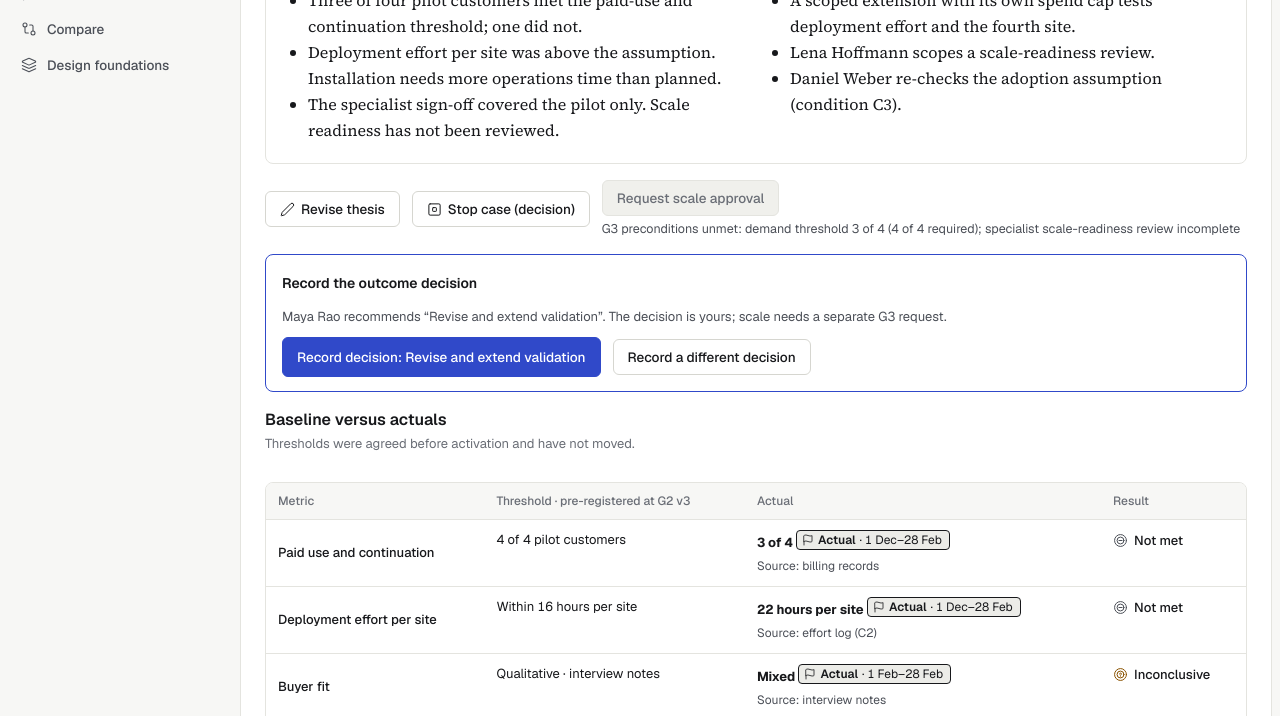
it: S12 Outcomes › the sponsor records the decision on the recommendation (step 27)
(page scrolled)
Click the button "Record decision: Revise and extend validation".
click(441, 357)  # box left=282, top=337, right=600, bottom=377
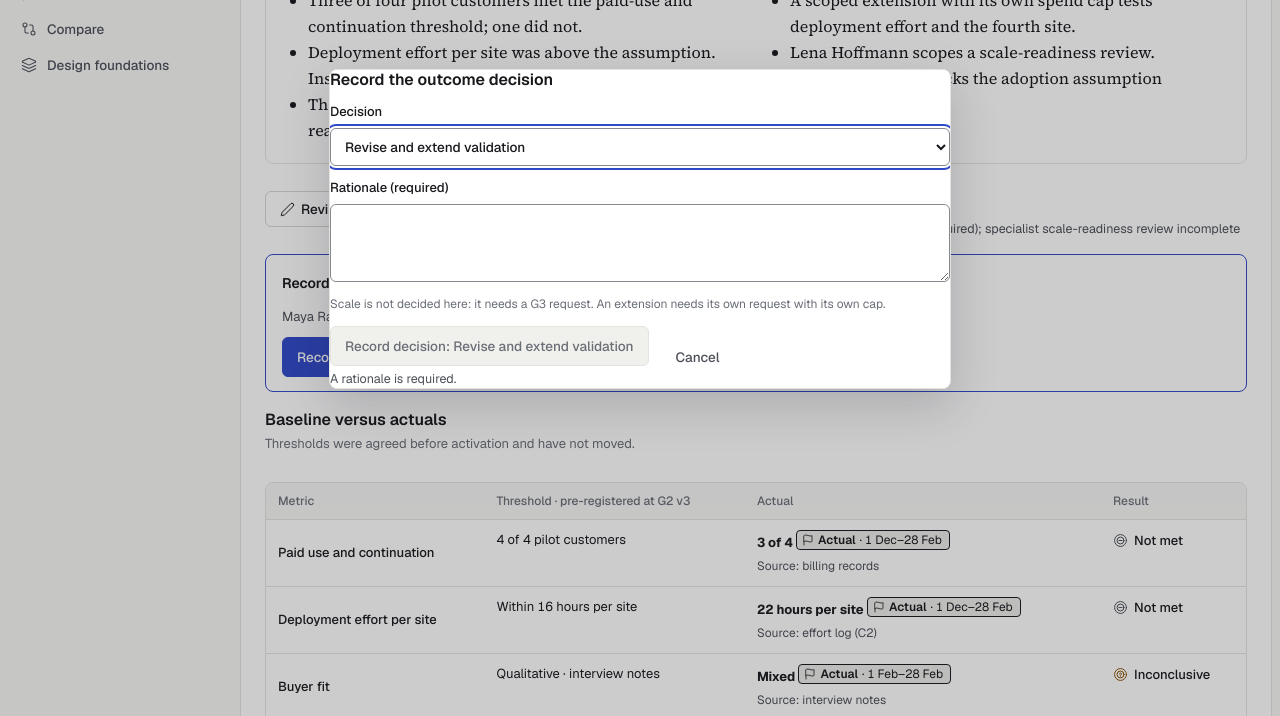
Type "On Maya Rao’s recommendation." into the text box.
click(640, 243); type("On Maya Rao’s recommendation.")  # box left=330, top=204, right=950, bottom=282
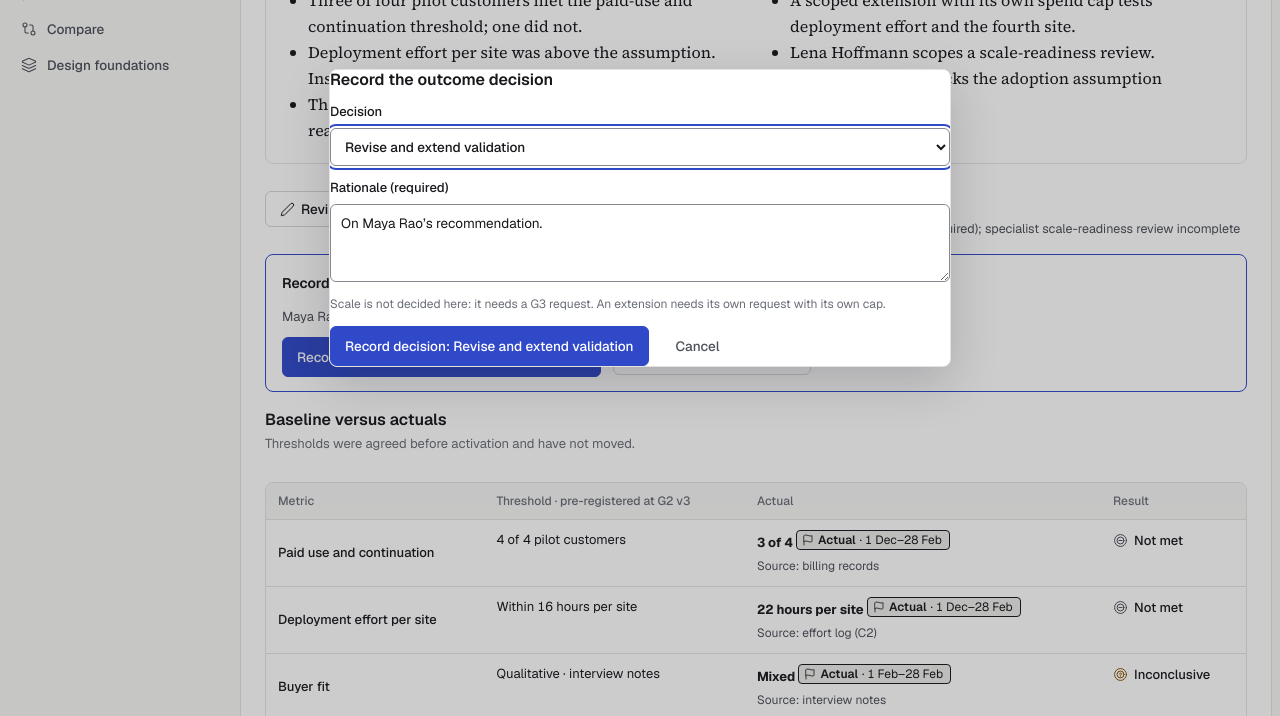
Click the button "Record decision: Revise and extend validation".
click(489, 346)  # box left=330, top=326, right=648, bottom=366
(page scrolled)
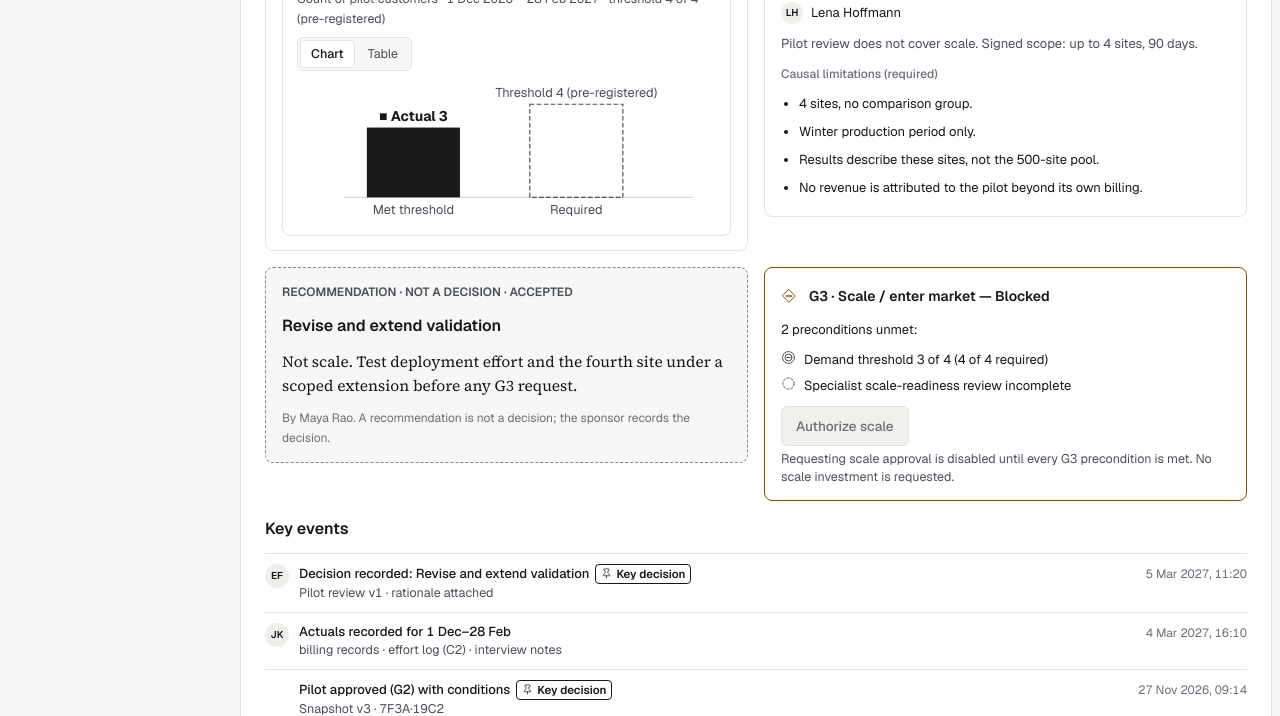
Expected: the text "RECOMMENDATION · NOT A DECISION · ACCEPTED" is shown, left=282, top=284, right=573, bottom=300
